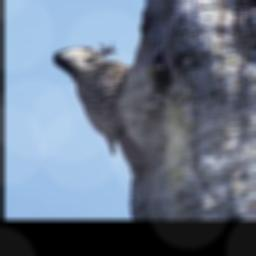Woodpecker: (52, 39, 171, 184)
